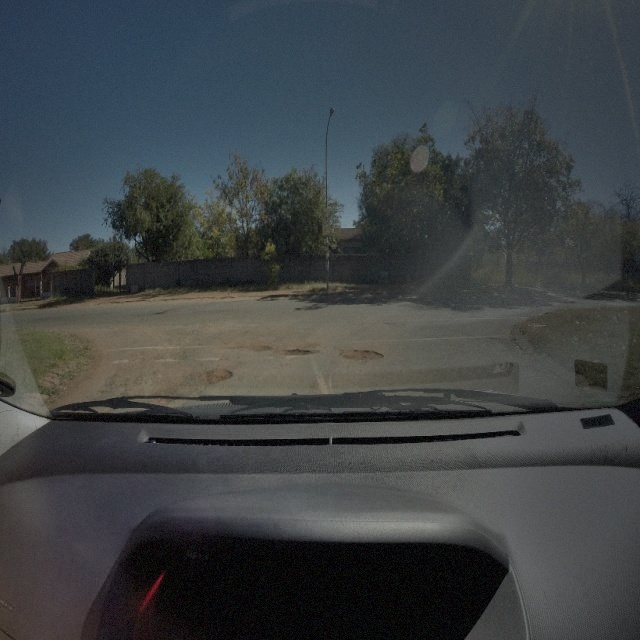pothole: (181, 364, 234, 387), (338, 346, 384, 361), (278, 344, 313, 358), (247, 342, 271, 352)
